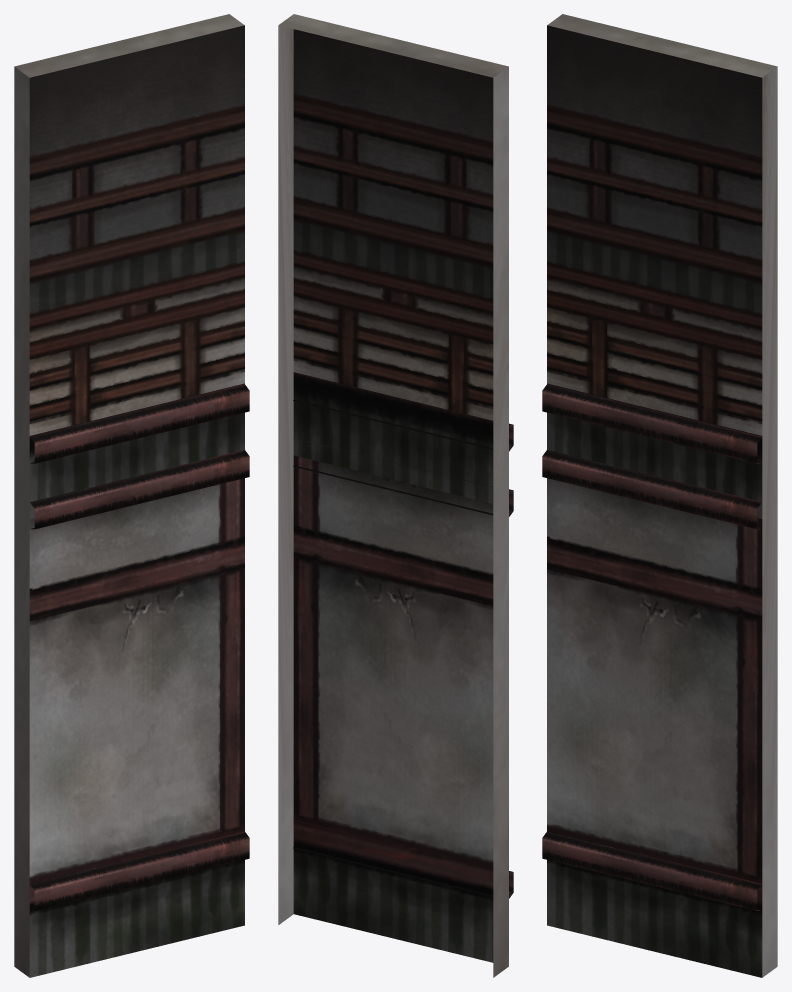
The model's file is STR_WallTempleShort.FBX.
3 renders of one model, left to right at view 1: azimuth 30°, elevation 25°; view 2: azimuth 150°, elevation 25°; view 3: azimuth 330°, elevation 25°, orthographic.
Parts seen in each view (by area): view 1: STR_WallTempleShort; view 2: STR_WallTempleShort; view 3: STR_WallTempleShort.
Part boxes in pixels (bbox=[...]): STR_WallTempleShort: bbox=[14, 14, 249, 977]; STR_WallTempleShort: bbox=[278, 14, 513, 977]; STR_WallTempleShort: bbox=[542, 14, 777, 977].
Size of the model in its own units: 243 by 970 by 39.67.
